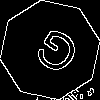G: (25, 25, 84, 85)
